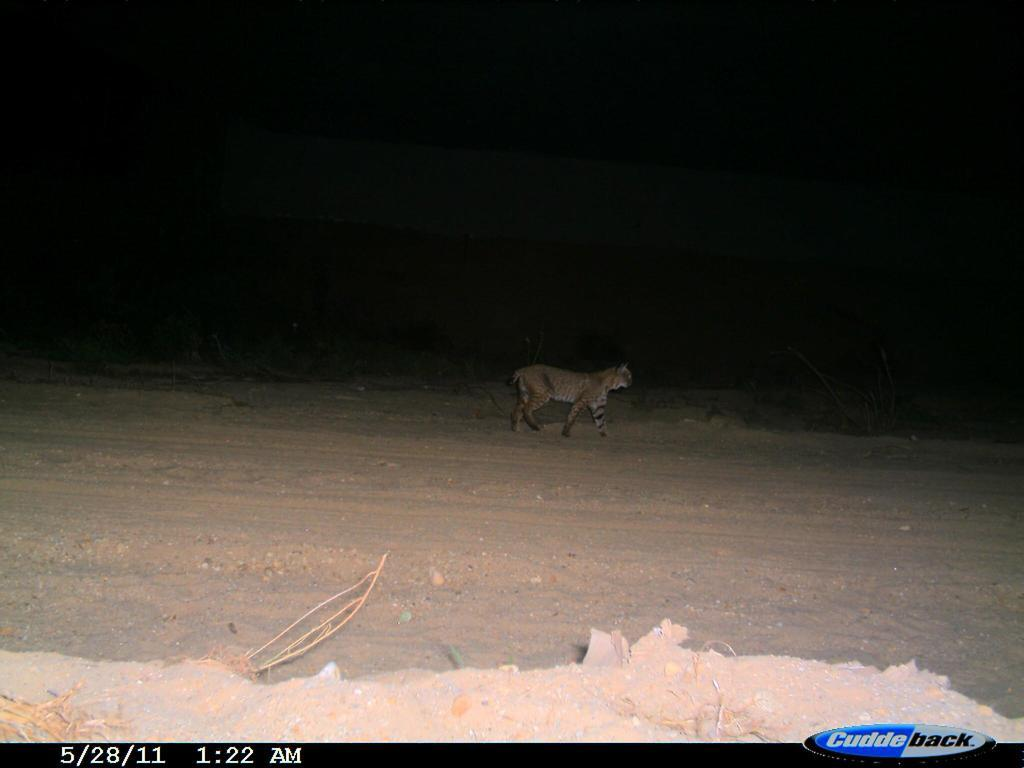bobcat: (488, 342, 649, 450)
